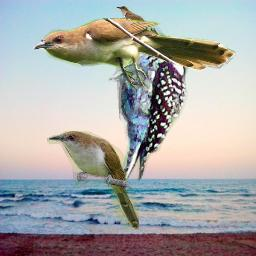Cuckoo: (33, 18, 236, 89), (47, 131, 139, 230), (115, 6, 147, 29)
Woodpecker: (93, 19, 198, 201)
